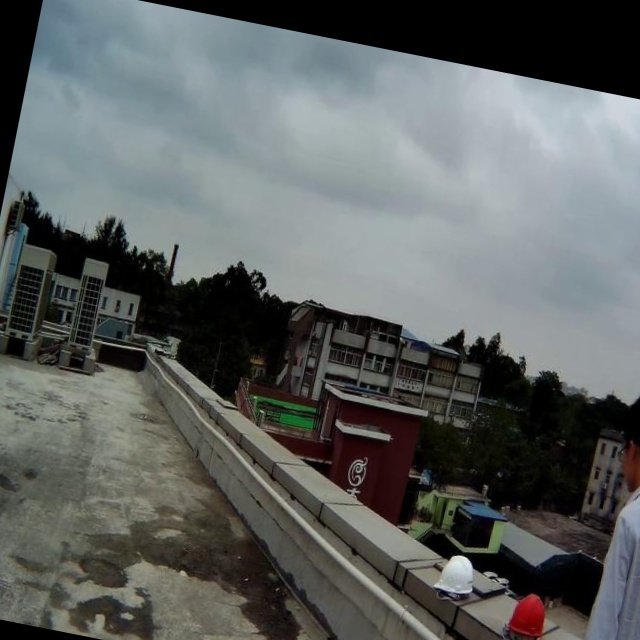Sin_Casco_Mascarrilla: (614, 385, 640, 487)
